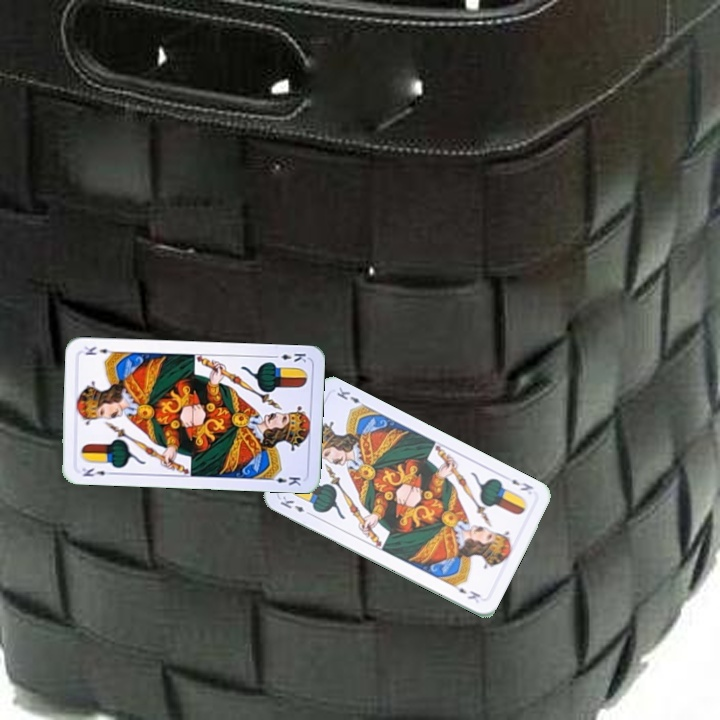EK: (276, 492, 315, 519), (501, 472, 536, 493), (268, 349, 309, 364), (78, 464, 116, 479)
